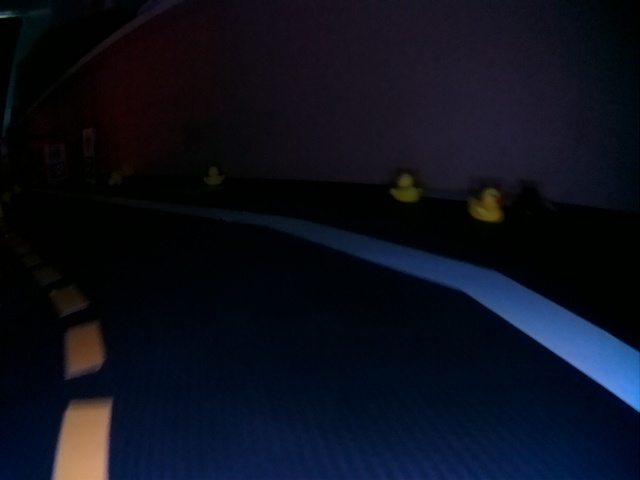Duckie: (467, 187, 505, 222), (390, 173, 422, 203), (203, 168, 226, 183), (108, 171, 122, 186)
